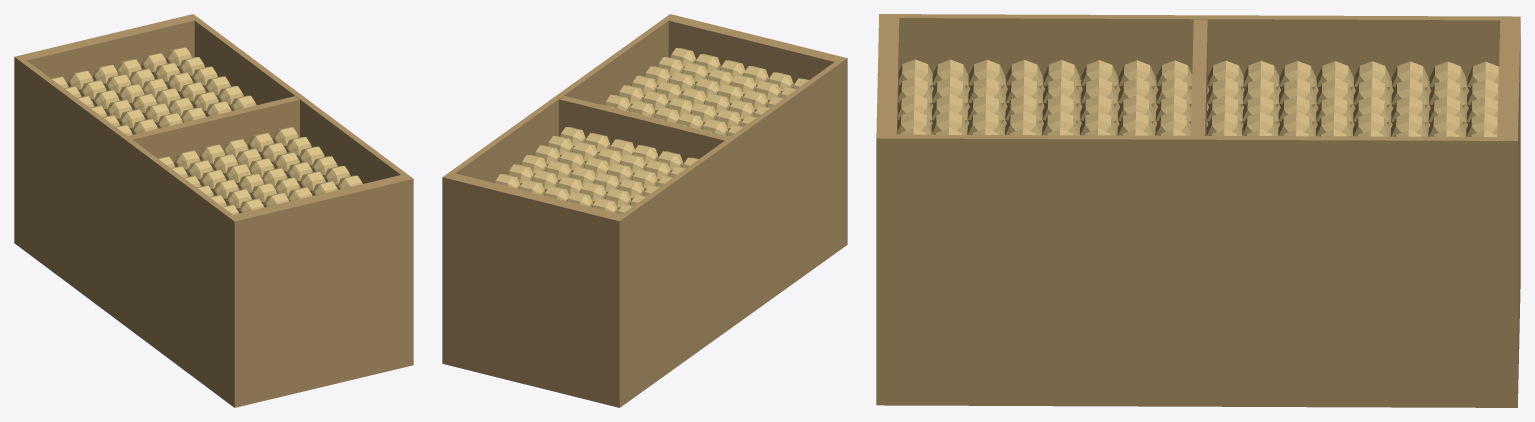
The model's file is potato_box.gltf.
3 renders of one model, left to right at view 1: azimuth 30°, elevation 25°; view 2: azimuth 150°, elevation 25°; view 3: azimuth 270°, elevation 25°, orthographic. The views are drawn at different scales.
Visible parts, largest first — view 1: Cube.031; view 2: Cube.031; view 3: Cube.031.
Part boxes in pixels (<box>): Cube.031: <box>14,14,413,407</box>; Cube.031: <box>442,14,847,407</box>; Cube.031: <box>876,14,1520,407</box>.
Bounding box in the file's own units: 4.32 × 4.23 × 9.26.
Materials: 2 (1 with a texture image).
